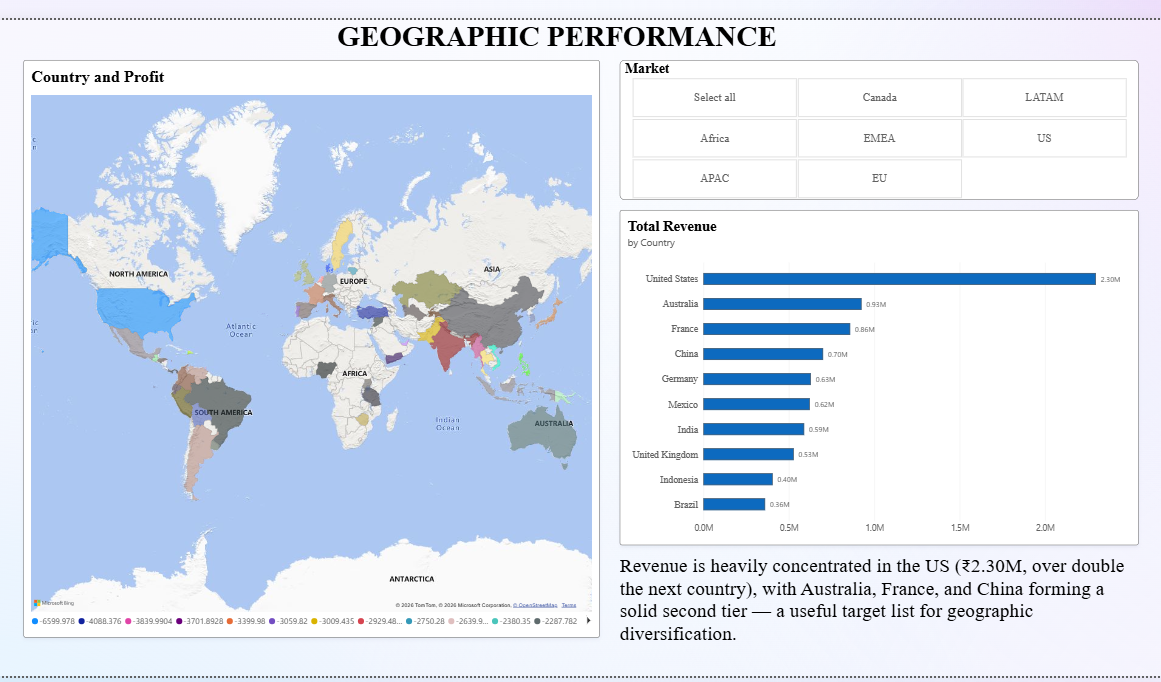

The page's visual inventory and layout, read from the dashboard file:
{"tool":"powerbi","page":{"name":"Geographic","canvas":[1920,1080],"ordinal":2},"visuals":[{"type":"textbox","box":[561.9,0,1041.5,65.9],"z":0},{"type":"slicer","fields":{"Values":["cleaned_global_superstore.Market"]},"box":[1027.1,65.9,854.2,230.5],"z":2},{"type":"barChart","fields":{"Category":["cleaned_global_superstore.Country"],"Y":["rfm_output.Total Revenue"]},"box":[1027.1,312.9,854.2,551.6],"z":3},{"type":"textbox","box":[1027.1,878.9,854,152],"z":4},{"type":"shapeMap","fields":{"Category":["cleaned_global_superstore.Country"],"Series":["cleaned_global_superstore.Profit"]},"box":[23.3,66.7,960,966.7],"z":5}]}

Visuals, with their boxes on the page's 1920x1080 design canvas (x1, y1, x2, y2). These are canvas units, not pixel positions in the 1161x682 screenshot, which may show the page scaled, cropped or inside an application window:
textbox: [left=562, top=0, right=1603, bottom=66]
slicer - cleaned_global_superstore.Market: [left=1027, top=66, right=1881, bottom=296]
barChart - cleaned_global_superstore.Country x rfm_output.Total Revenue: [left=1027, top=313, right=1881, bottom=864]
textbox: [left=1027, top=879, right=1881, bottom=1031]
shapeMap - cleaned_global_superstore.Country x cleaned_global_superstore.Profit: [left=23, top=67, right=983, bottom=1033]
